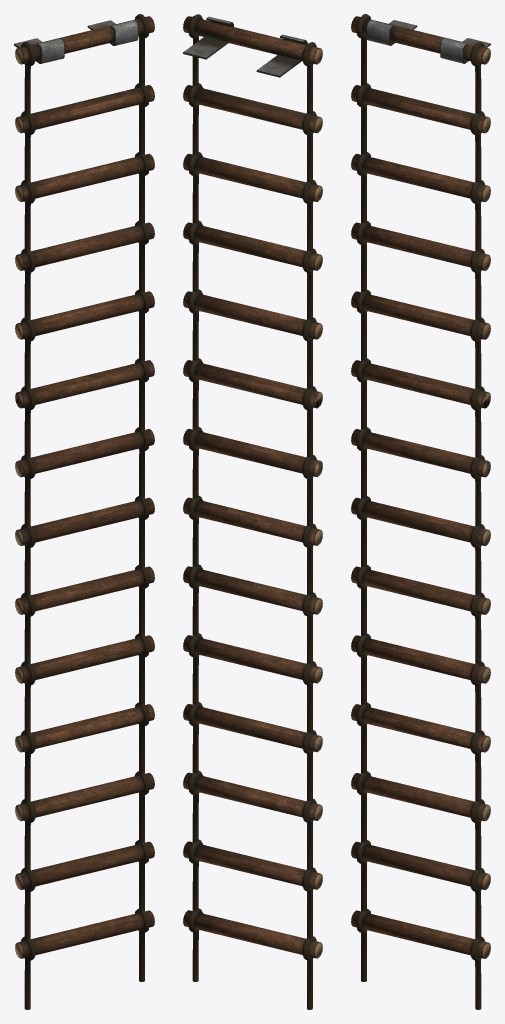
File: rope_ladder.glb
3 views of the same model, side by side, from view 1: azimuth 30°, elevation 25°; view 2: azimuth 150°, elevation 25°; view 3: azimuth 330°, elevation 25° (orthographic).
Visible parts, largest first — view 1: rope_ladder; view 2: rope_ladder; view 3: rope_ladder.
Part boxes in pixels (<box>): rope_ladder: <box>14,14,154,1009</box>; rope_ladder: <box>183,14,322,1009</box>; rope_ladder: <box>351,14,490,1009</box>.
Size of the model in its own units: 0.4996 by 3.51 by 0.1867.
Materials: 1 (1 with a texture image).
